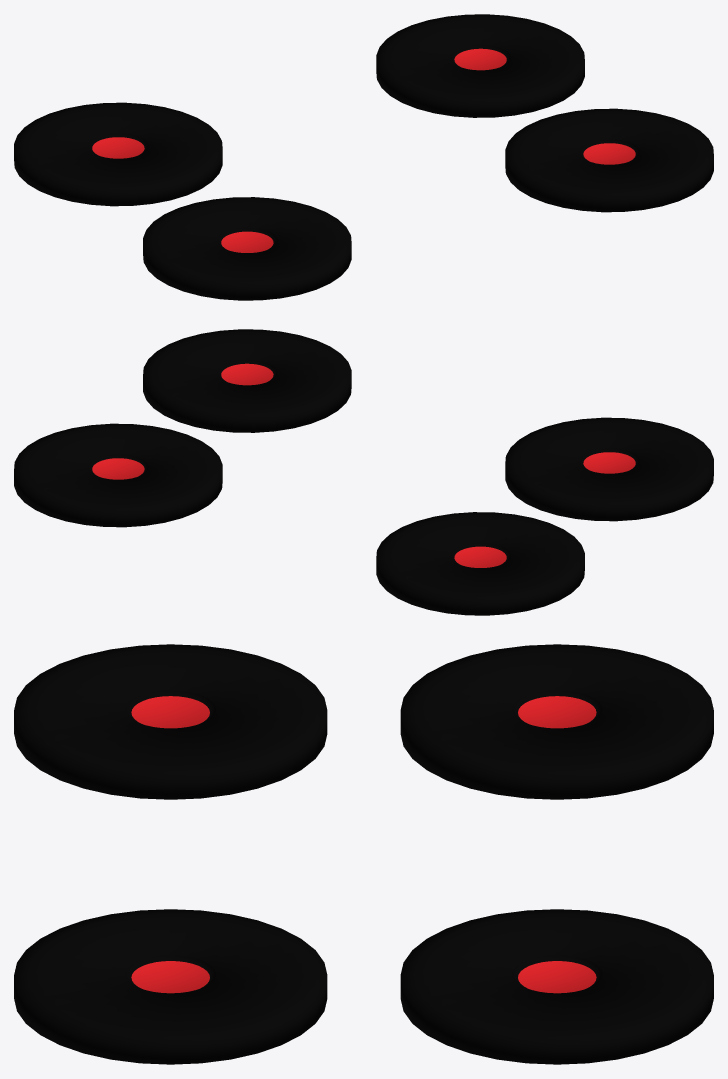
File: Komforki.fbx
The picture shows the model from 3 angles, top to bottom: view 1: azimuth 30°, elevation 25°; view 2: azimuth 150°, elevation 25°; view 3: azimuth 270°, elevation 25°; orthographic projection. The views are drawn at different scales.
Visible parts, largest first — view 1: Цилиндр.003; view 2: Цилиндр.003; view 3: Цилиндр.003.
Part boxes in pixels (<box>): Цилиндр.003: <box>14,14,713,300</box>; Цилиндр.003: <box>14,329,713,615</box>; Цилиндр.003: <box>14,644,713,1064</box>.
Bounding box in the file's own units: 4.62 × 0.1314 × 3.44.
